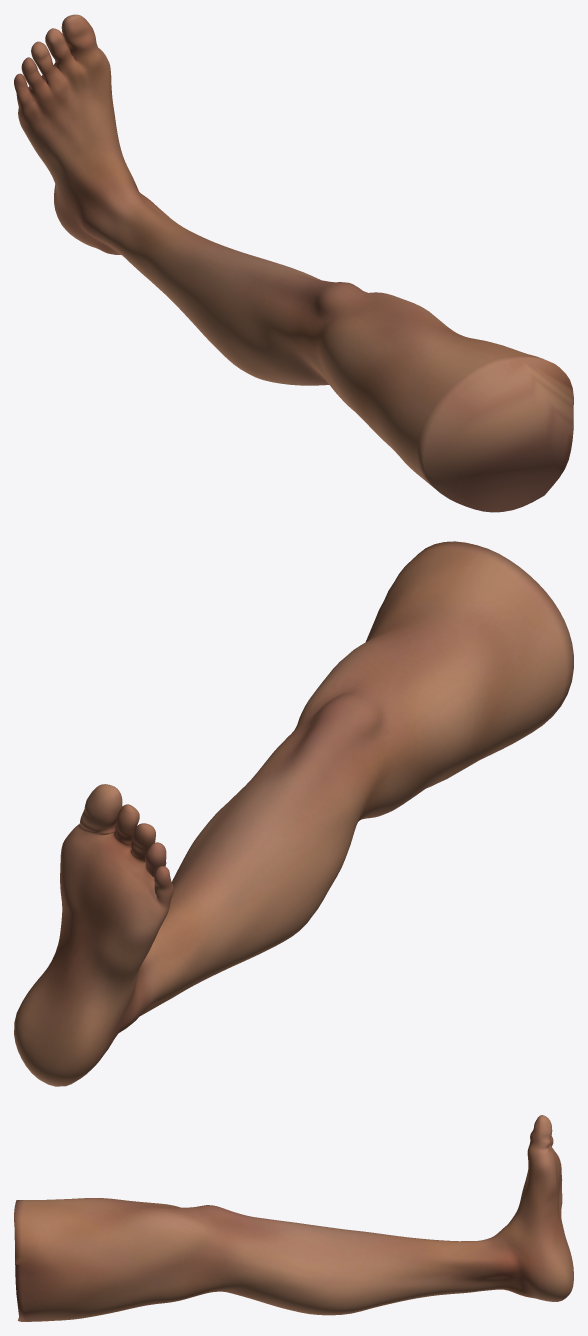
File: left_male_foot.glb
3 views of the same model, one above another, from view 1: azimuth 30°, elevation 25°; view 2: azimuth 150°, elevation 25°; view 3: azimuth 270°, elevation 25° (orthographic). The views are drawn at different scales.
Parts seen in each view (by area): view 1: _gltfNode_0; view 2: _gltfNode_0; view 3: _gltfNode_0.
Part boxes in pixels (left/top/right/bottom): _gltfNode_0: left=14, top=14, right=573, bottom=512; _gltfNode_0: left=14, top=541, right=573, bottom=1086; _gltfNode_0: left=14, top=1115, right=573, bottom=1321.
Bounding box in the file's own units: 23.06 × 29.56 × 84.28.
1 material, 1 textured.
